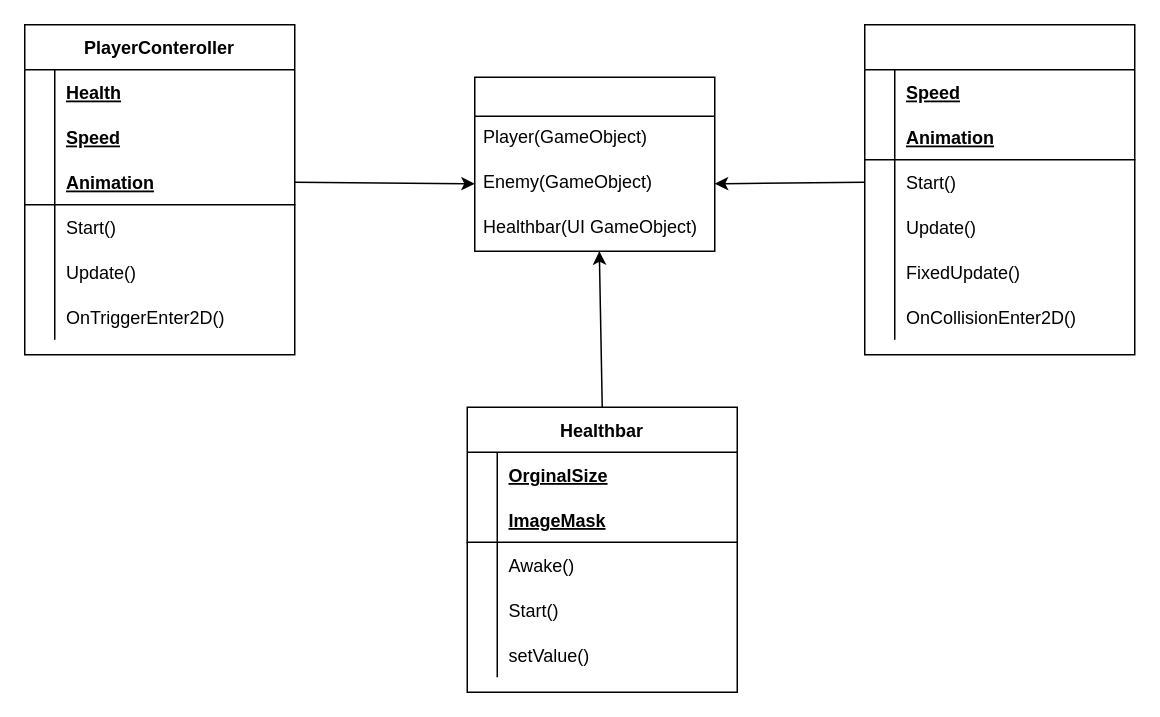
Image size: 1160x717. Some labels were removed from this diagram. Here are the shapes that lost their labels. From the top down, the box of each, then its label:
(473, 76, 715, 251): GameManager
(863, 23, 1135, 355): EnemyController
